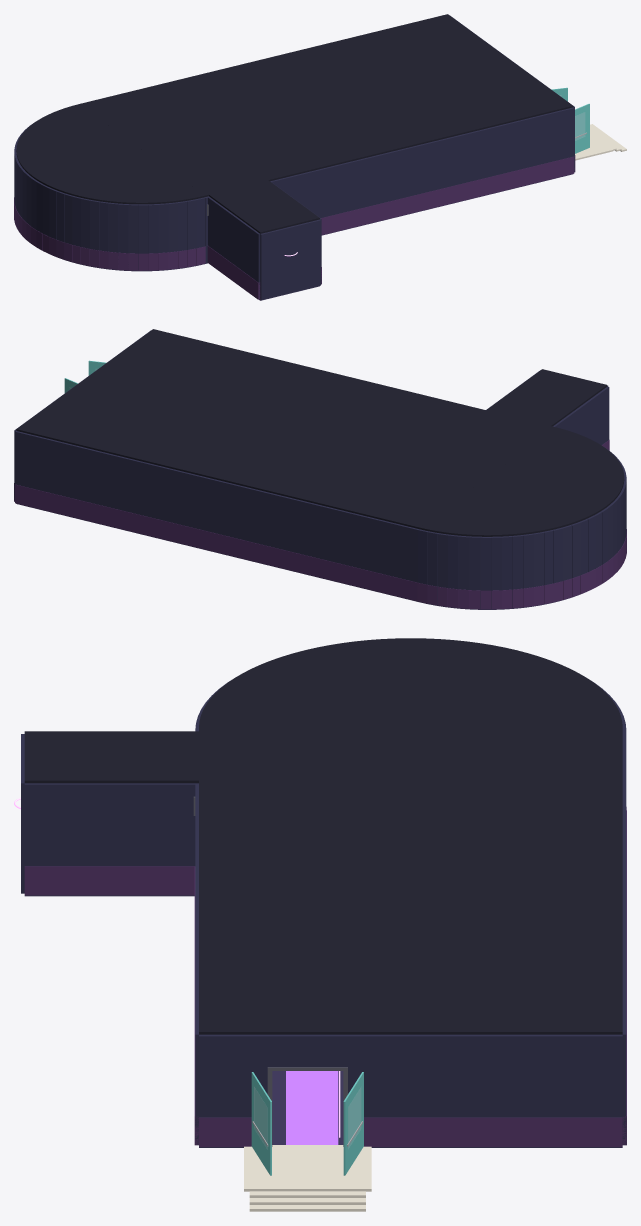
The model's file is arcade.glb.
The picture shows the model from 3 angles, top to bottom: view 1: azimuth 30°, elevation 25°; view 2: azimuth 150°, elevation 25°; view 3: azimuth 270°, elevation 25°; orthographic projection. The views are drawn at different scales.
Parts seen in each view (by area): view 1: Ceil_Wing, Wall_BottomR, Ceil_Lobby, Wain_BottomR, Wall_CorrEnd, Ceil_Corridor, Wall_CorrL, Wain_CorrL, ExitDoor_S, Wall_Lobby_33, Wall_Lobby_32, Wall_Lobby_34 (+14 smaller); view 2: Ceil_Wing, Wall_Top, Ceil_Lobby, Wain_Top, Ceil_Corridor, Wall_CorrL, Wall_Lobby_5, Wall_Lobby_9, Wall_Lobby_4, Wall_Lobby_7, Wall_Lobby_1, Wall_Lobby_3 (+13 smaller); view 3: Ceil_Wing, Ceil_Lobby, Wall_RightN, Wall_CorrR, Ceil_Corridor, Wain_RightN, Outside_Landing, Wall_RightS, Wain_CorrR, Floor_Aisle, Wall_DoorLintel, Wall_Top (+8 smaller).
Boxes of the visible parts, <box> form: Ceil_Wing: <box>79,14,573,197</box>; Wall_BottomR: <box>270,107,574,217</box>; Ceil_Lobby: <box>16,104,204,204</box>; Wain_BottomR: <box>321,156,574,234</box>; Wall_CorrEnd: <box>260,219,320,299</box>; Ceil_Corridor: <box>209,180,319,233</box>; Wall_CorrL: <box>208,197,260,296</box>; Wain_CorrL: <box>207,246,260,299</box>; ExitDoor_S: <box>575,103,589,153</box>; Wall_Lobby_33: <box>138,204,148,269</box>; Wall_Lobby_32: <box>128,204,138,253</box>; Wall_Lobby_34: <box>148,204,158,253</box>; Ceil_Wing: <box>16,329,555,528</box>; Wall_Top: <box>15,431,418,582</box>; Ceil_Lobby: <box>419,427,624,536</box>; Wain_Top: <box>15,484,417,601</box>; Ceil_Corridor: <box>486,369,607,426</box>; Wall_CorrL: <box>553,386,609,445</box>; Wall_Lobby_5: <box>469,536,480,608</box>; Wall_Lobby_9: <box>512,535,523,607</box>; Wall_Lobby_4: <box>458,535,469,589</box>; Wall_Lobby_7: <box>491,536,501,608</box>; Wall_Lobby_1: <box>427,531,437,604</box>; Wall_Lobby_3: <box>448,534,458,589</box>; Ceil_Wing: <box>199,727,622,1034</box>; Ceil_Lobby: <box>199,638,622,727</box>; Wall_RightN: <box>345,1034,622,1117</box>; Wall_CorrR: <box>24,783,195,866</box>; Ceil_Corridor: <box>24,731,198,783</box>; Wain_RightN: <box>364,1117,622,1146</box>; Outside_Landing: <box>244,1145,371,1191</box>; Wall_RightS: <box>199,1034,269,1117</box>; Wain_CorrR: <box>24,866,194,895</box>; Floor_Aisle: <box>286,1071,338,1144</box>; Wall_DoorLintel: <box>270,1034,345,1067</box>; Wall_Top: <box>622,730,626,1145</box>.
Bounding box in the file's own units: 36.87 × 4.67 × 21.11.
